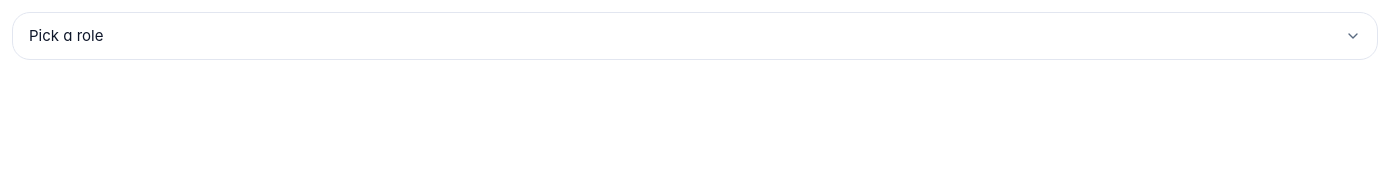
it: Select › keeps options hidden until the trigger is clicked
The width and height of the screenshot is (1390, 184).
Check: the text "Developer" is not shown
Click the button "Pick a role": (66, 35) [12,12,1378,60]
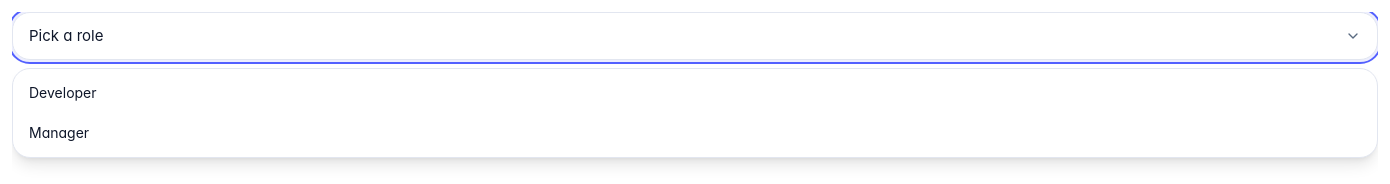
Check: the button "Developer" is shown, box [13,73,1377,113]
